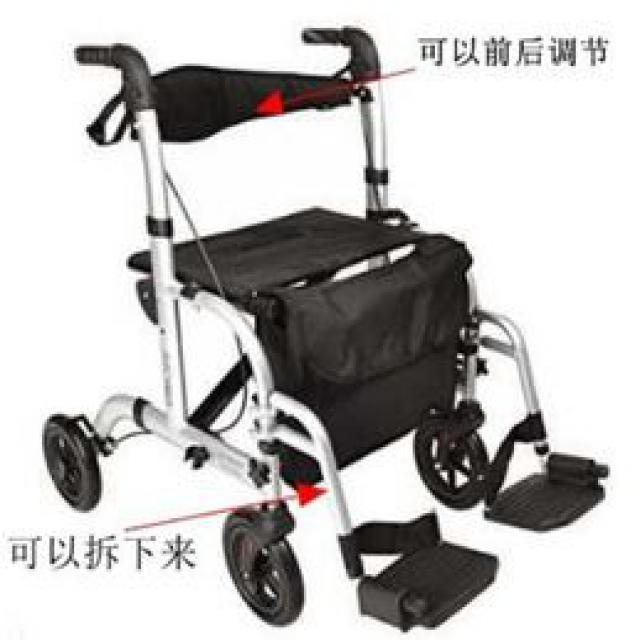wheelchair: (44, 18, 618, 638)
